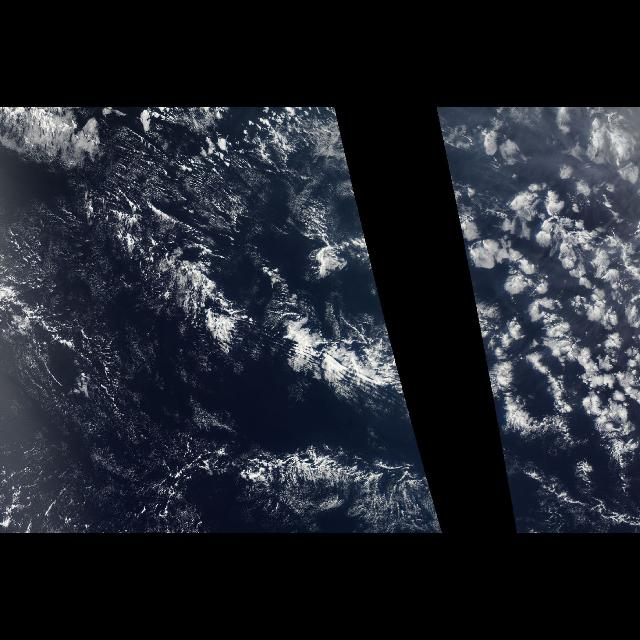Flower: (458, 175, 640, 435)
Sugar: (11, 385, 175, 507)
